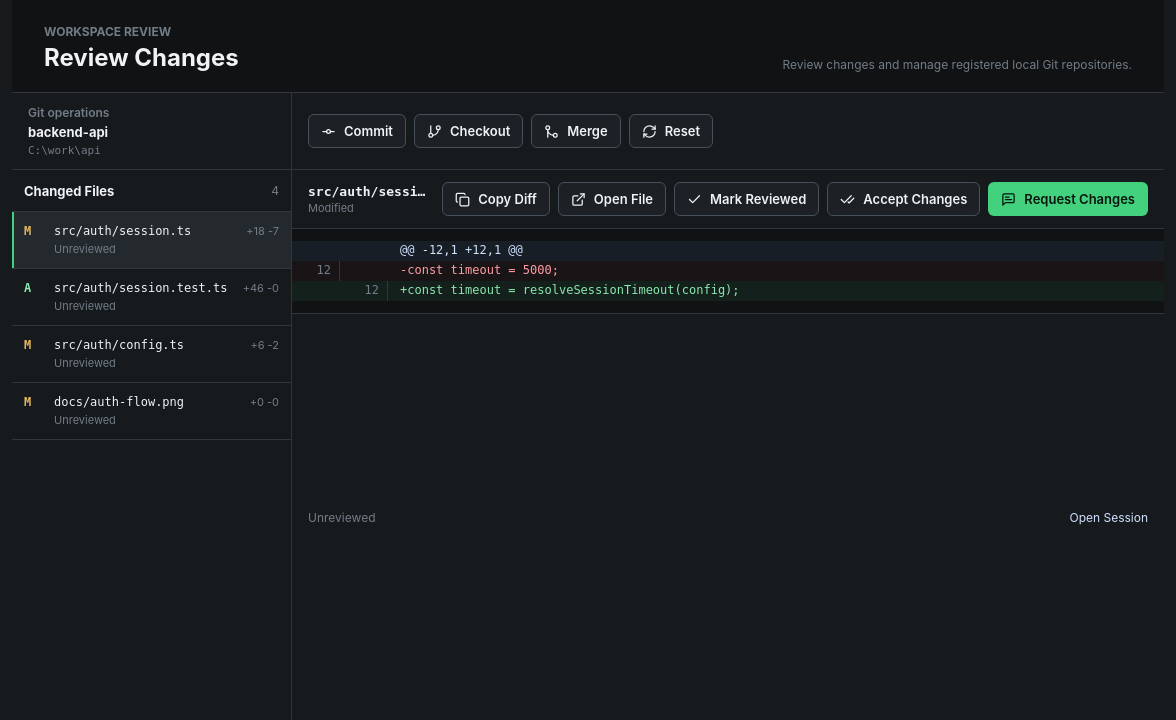
Test: ChangesPage › creates a branch from the selected local repository and trims its name
Click the button "Checkout" at (469, 131), box [414, 114, 523, 148]
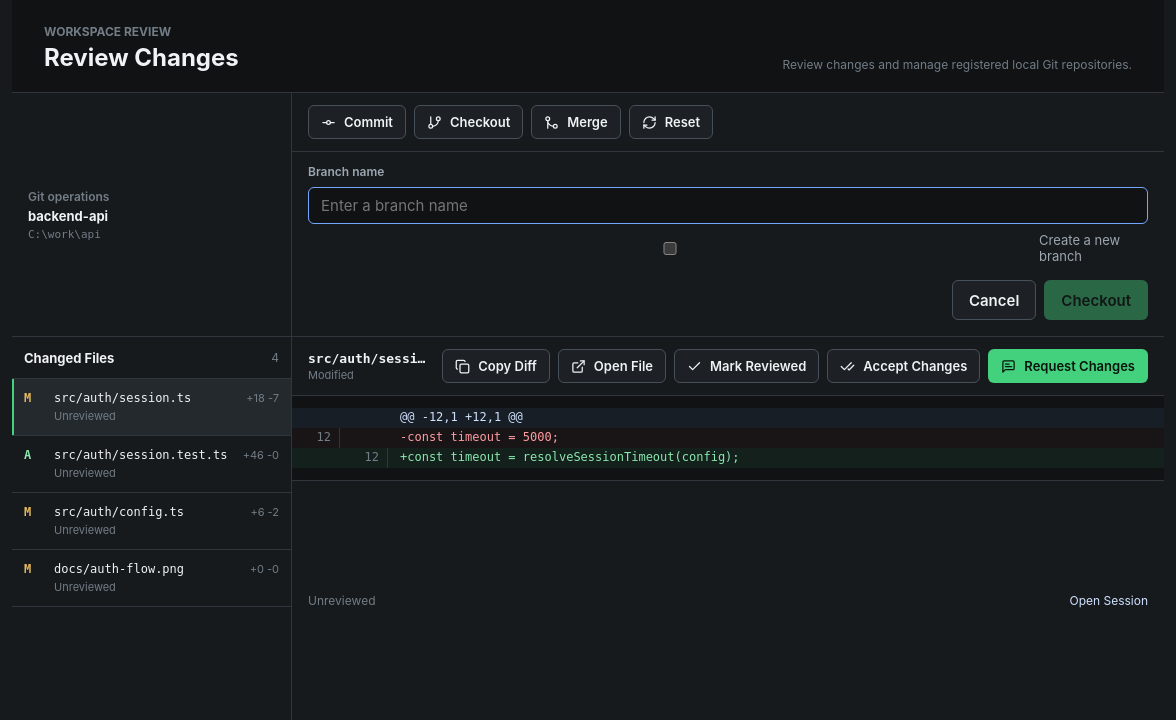
Expected: the form labelled "Branch name" is shown, [292, 151, 1164, 336]
Type "  release/2026-07  " into the field labelled "Branch name" at (728, 206), box [308, 187, 1148, 224]
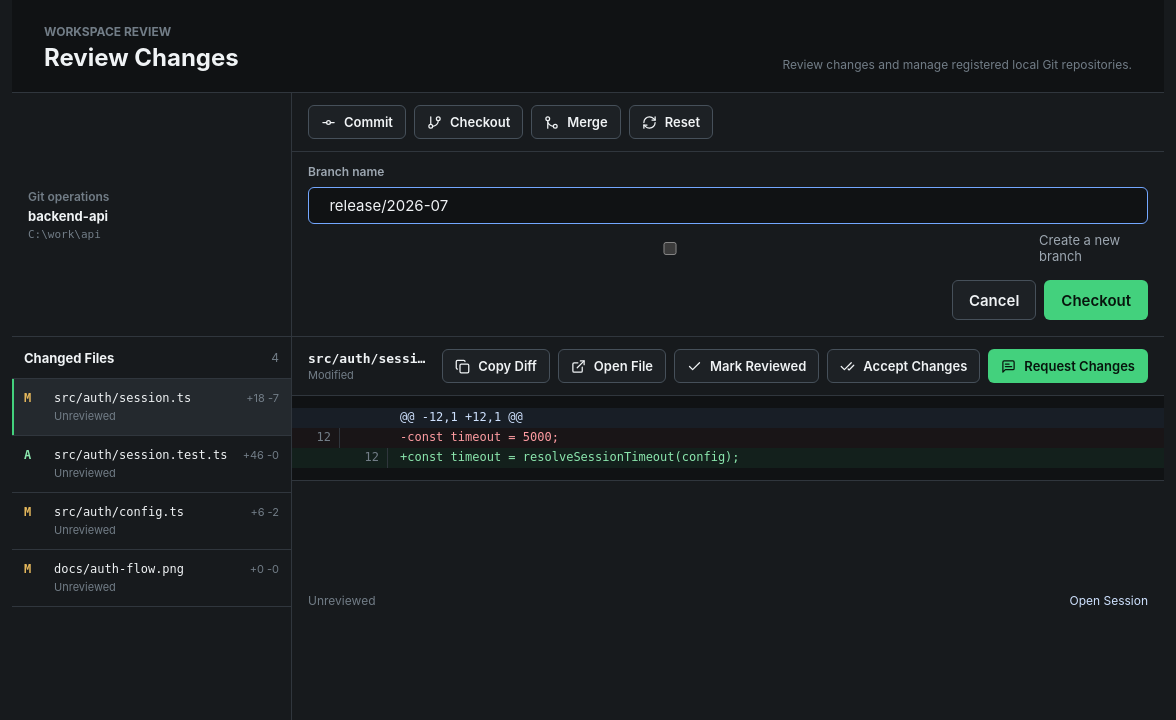
Click the checkbox labelled "Create a new branch" at (670, 248), box [312, 242, 1028, 254]
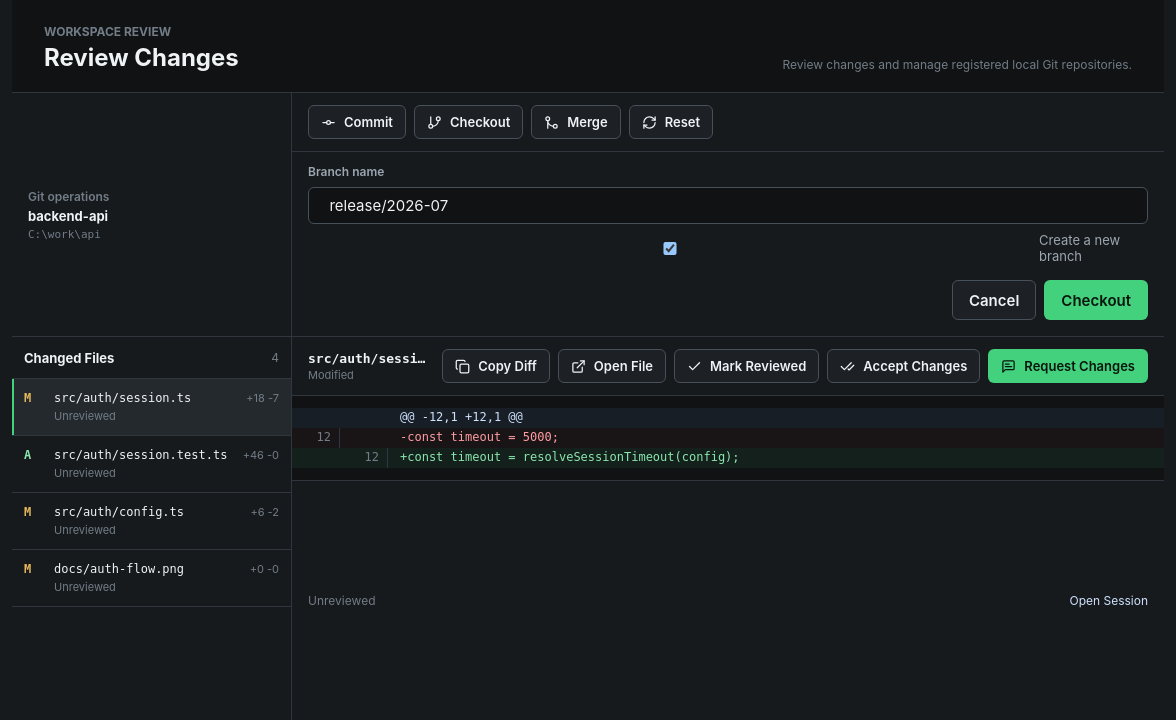
Click the button "Checkout" below "Create a new branch" at (1096, 300), box [1044, 280, 1148, 320]
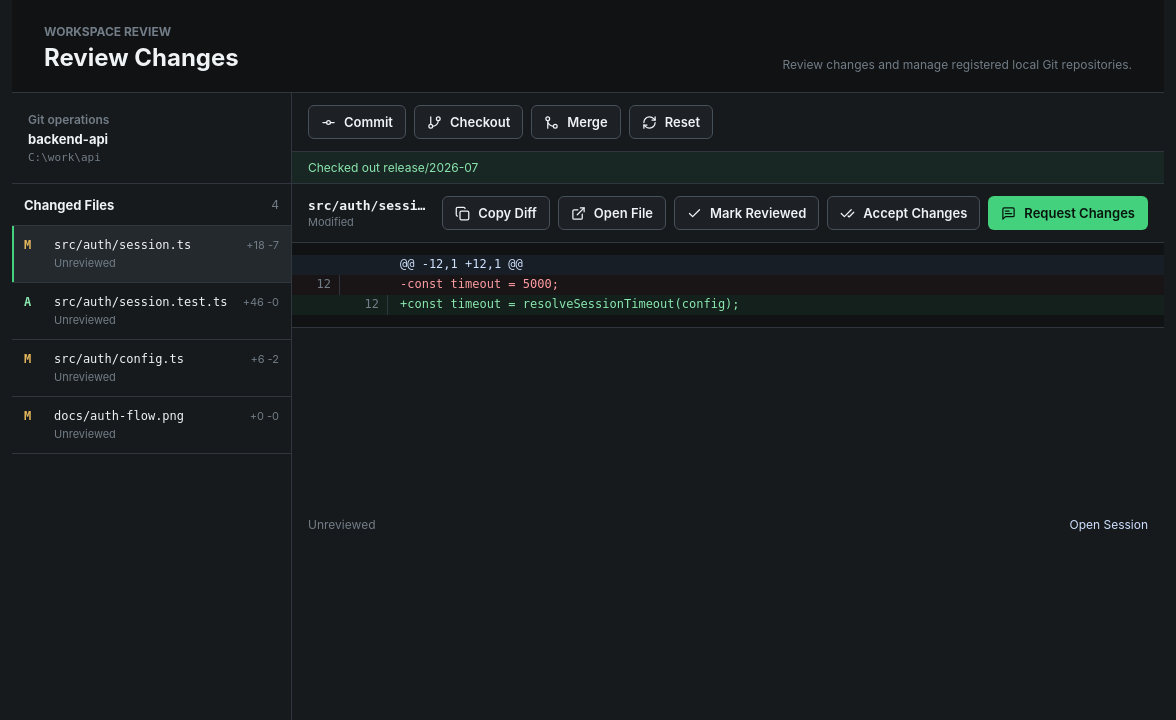
Expected: the message reads "Checked out release/2026-07", [308, 160, 478, 175]
